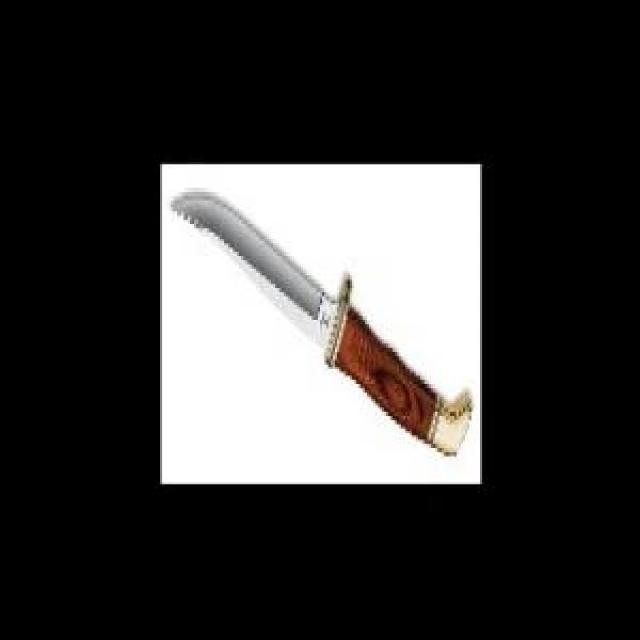knife: (170, 188, 472, 463)
